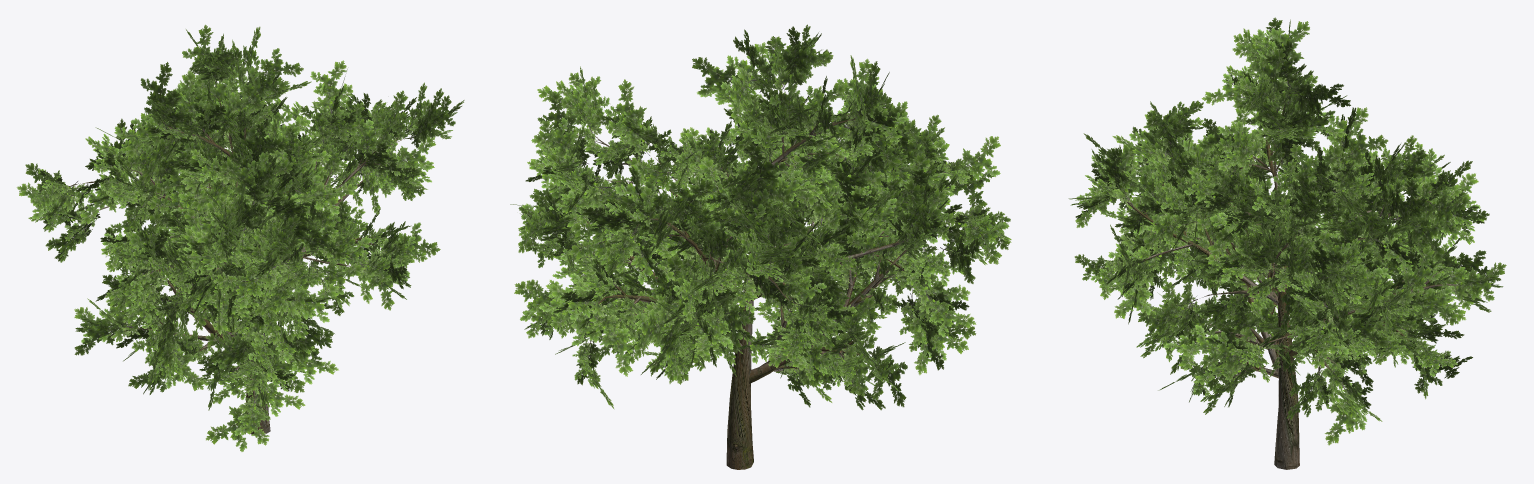
File: baum_laub_1_lod1.glb
3 renders of one model, left to right at view 1: azimuth 30°, elevation 25°; view 2: azimuth 150°, elevation 25°; view 3: azimuth 270°, elevation 25°, orthographic. The views are drawn at different scales.
Visible parts, largest first — view 1: Krone, Stamm; view 2: Krone, Stamm; view 3: Krone, Stamm.
Part boxes in pixels (x1,y1,x2,y2): Krone: [16, 24, 464, 451]; Stamm: [63, 98, 412, 434]; Krone: [510, 24, 1011, 410]; Stamm: [574, 98, 954, 469]; Krone: [1068, 17, 1506, 445]; Stamm: [1123, 100, 1468, 469].
Bounding box in the file's own units: 13.55 × 13.23 × 13.04.
Materials: 2 (2 with a texture image).
